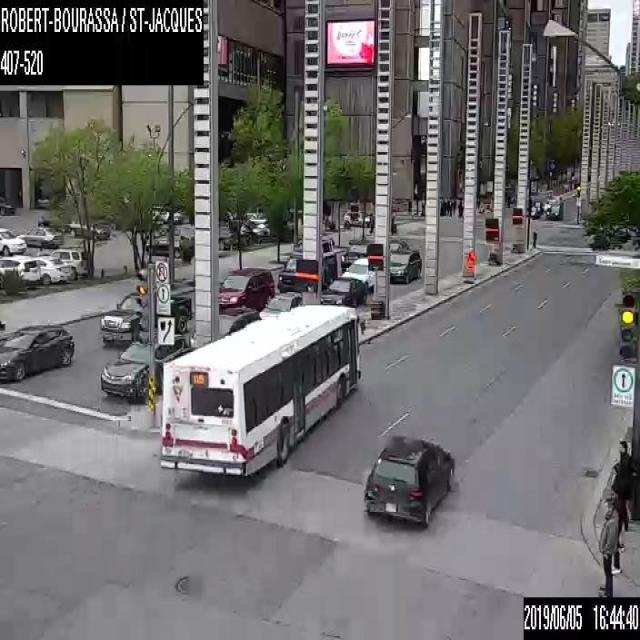bus: (152, 304, 359, 478)
construction: (464, 248, 476, 281)
pedestrian: (597, 491, 623, 596), (609, 440, 632, 533), (532, 231, 536, 248), (449, 196, 452, 215), (446, 196, 448, 215), (453, 197, 455, 216), (440, 196, 442, 214)
vehicle: (362, 432, 457, 527), (98, 334, 187, 402), (0, 321, 75, 383), (100, 291, 192, 336), (276, 251, 336, 291), (216, 267, 274, 305), (386, 239, 423, 284), (145, 224, 195, 257), (0, 253, 42, 287), (320, 277, 367, 306), (48, 248, 93, 277), (32, 252, 70, 284), (340, 254, 375, 287), (18, 226, 63, 248), (66, 218, 110, 239), (0, 226, 25, 253), (228, 218, 253, 244), (38, 211, 68, 232), (342, 210, 373, 226), (36, 189, 58, 207), (219, 226, 236, 249), (546, 203, 563, 219), (0, 196, 14, 215), (526, 204, 538, 218), (532, 199, 543, 213)
